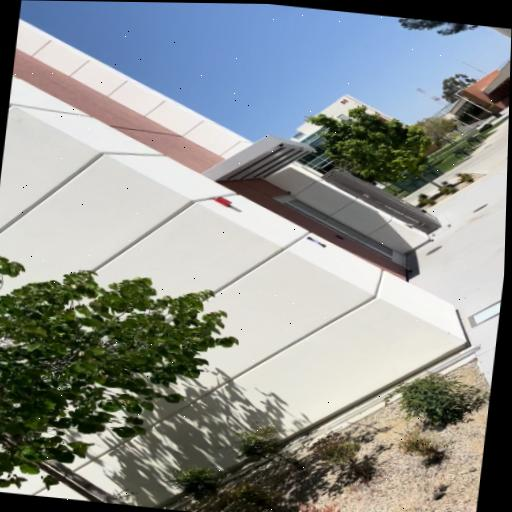target6: (306, 236, 328, 248)
